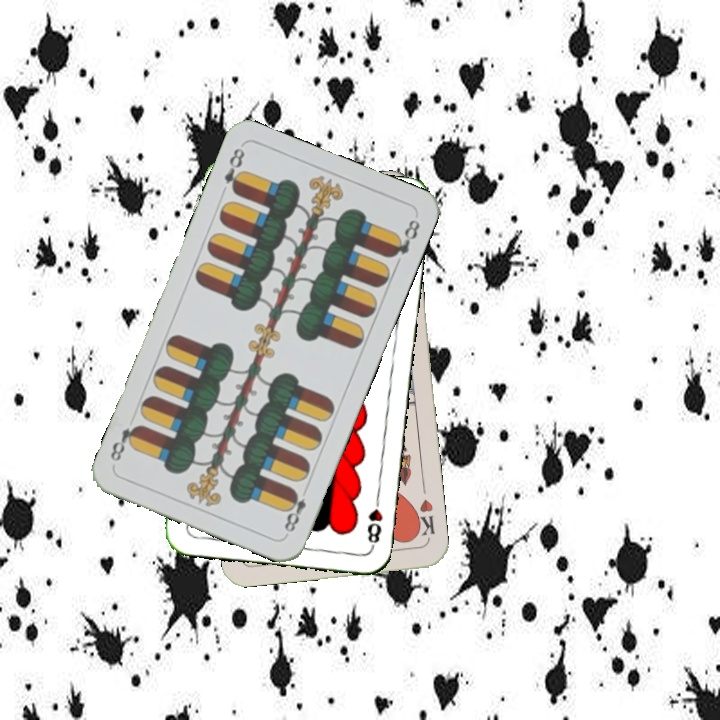E8: (280, 486, 309, 538), (220, 144, 248, 197)
H8: (363, 491, 385, 550)
HK: (409, 495, 437, 540)
